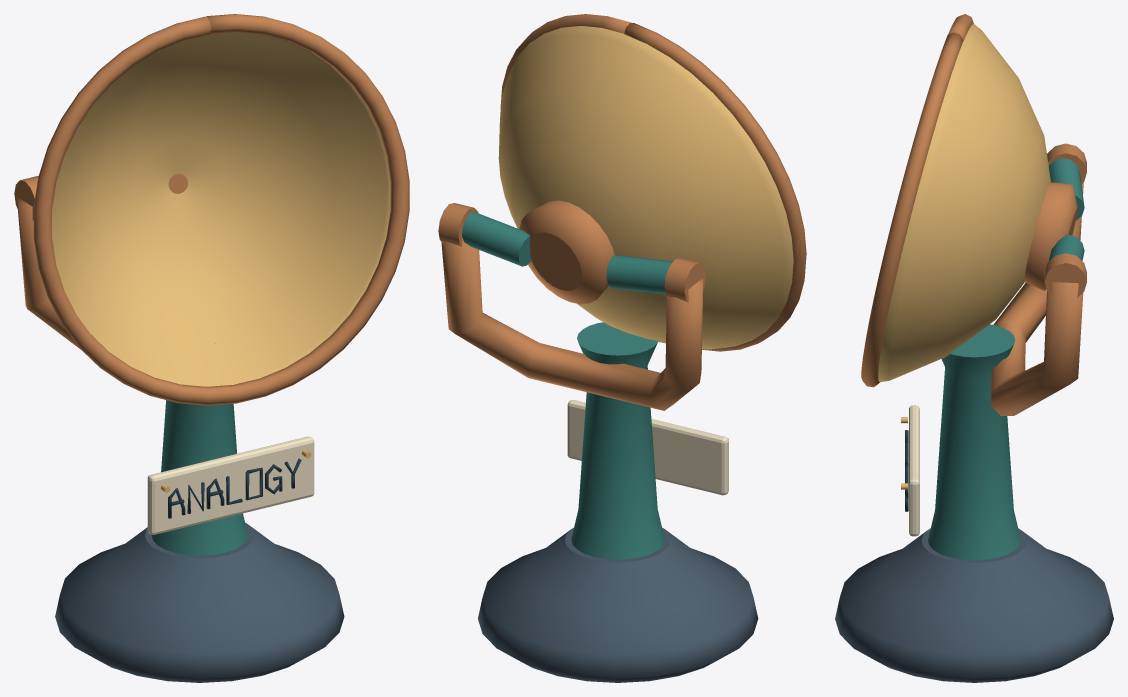
The picture shows the model from 3 angles, left to right: view 1: azimuth 30°, elevation 25°; view 2: azimuth 150°, elevation 25°; view 3: azimuth 270°, elevation 25°; orthographic projection. The views are drawn at different scales.
Parts seen in each view (by area): view 1: PR032 workshop surfaces; view 2: PR032 workshop surfaces; view 3: PR032 workshop surfaces.
Part boxes in pixels (x1=…): PR032 workshop surfaces: x1=14, y1=14, x2=409, y2=682; PR032 workshop surfaces: x1=438, y1=14, x2=806, y2=682; PR032 workshop surfaces: x1=835, y1=14, x2=1113, y2=682.
Bounding box in the file's own units: 0.8 × 1.39 × 0.5873.
